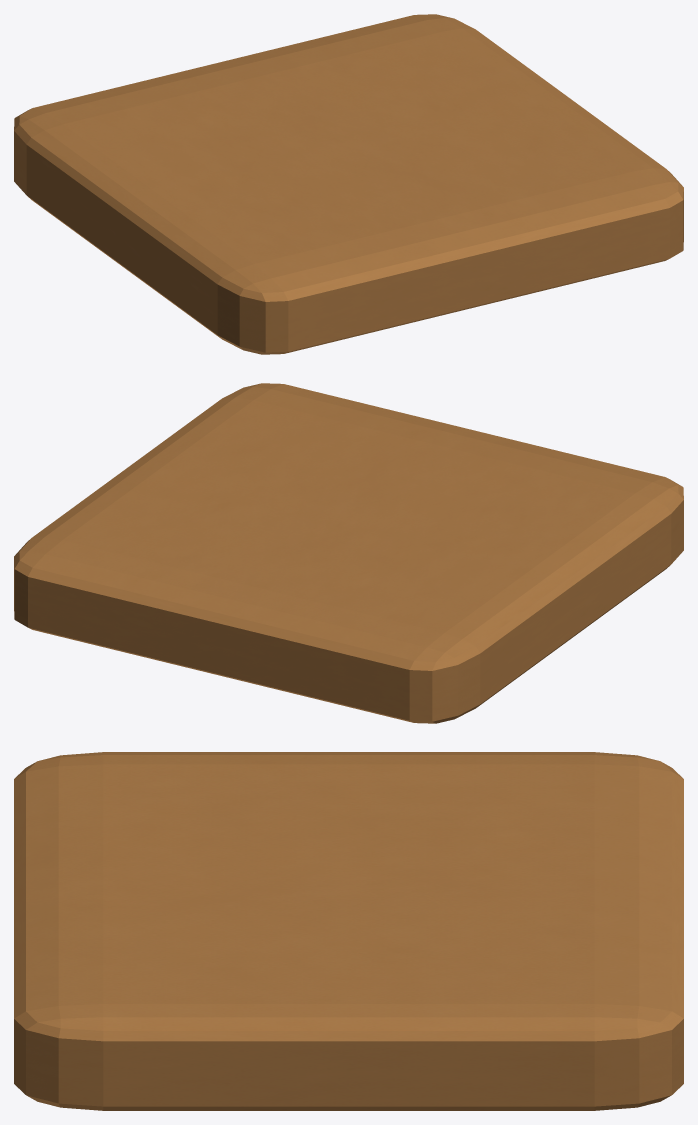
The model's file is PlaqueBas.glb.
3 views of the same model, one above another, from view 1: azimuth 30°, elevation 25°; view 2: azimuth 150°, elevation 25°; view 3: azimuth 270°, elevation 25° (orthographic). The views are drawn at different scales.
Parts seen in each view (by area): view 1: PlaqueBas; view 2: PlaqueBas; view 3: PlaqueBas.
Part boxes in pixels (x1,y1,x2,y2): PlaqueBas: (14, 14, 683, 354); PlaqueBas: (14, 383, 683, 723); PlaqueBas: (14, 752, 683, 1110).
Size of the model in its own units: 14.23 by 2.2 by 14.14.
Materials: 1 (1 with a texture image).
